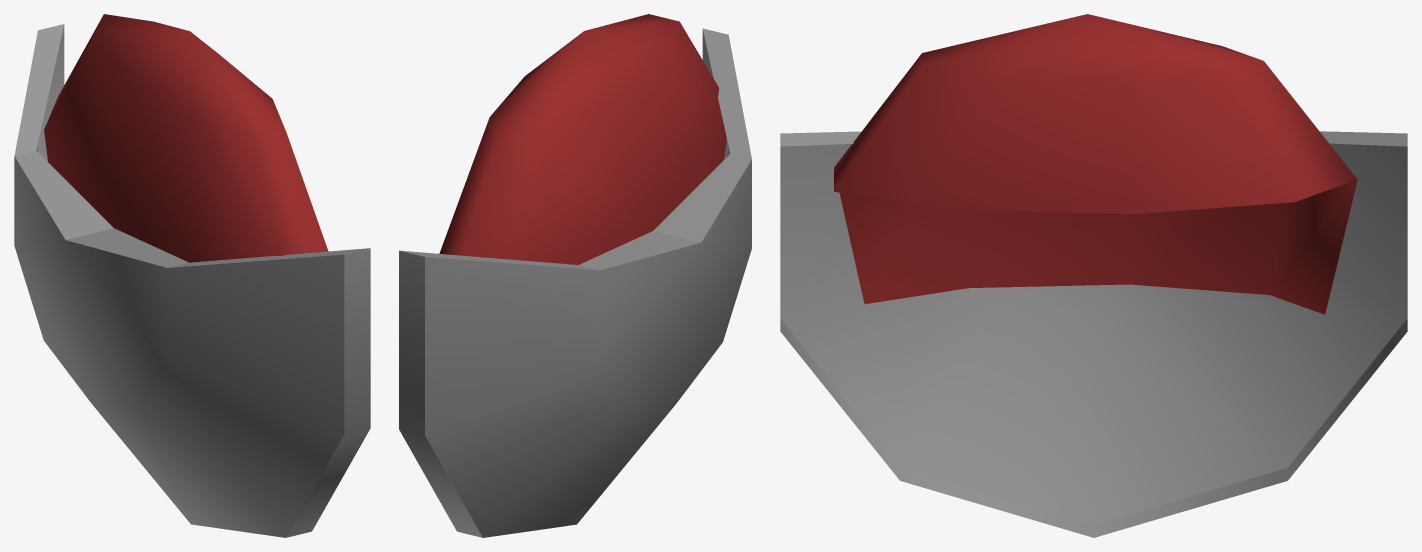
The model's file is lampe_murale_spa.FBX.
The picture shows the model from 3 angles, left to right: view 1: azimuth 30°, elevation 25°; view 2: azimuth 150°, elevation 25°; view 3: azimuth 270°, elevation 25°; orthographic projection. The views are drawn at different scales.
Parts seen in each view (by area): view 1: lampe murale spa; view 2: lampe murale spa; view 3: lampe murale spa.
Part boxes in pixels (<box>): lampe murale spa: <box>14,14,370,537</box>; lampe murale spa: <box>399,14,751,537</box>; lampe murale spa: <box>780,14,1407,537</box>.
Size of the model in its own units: 28.32 by 70.59 by 78.9.
